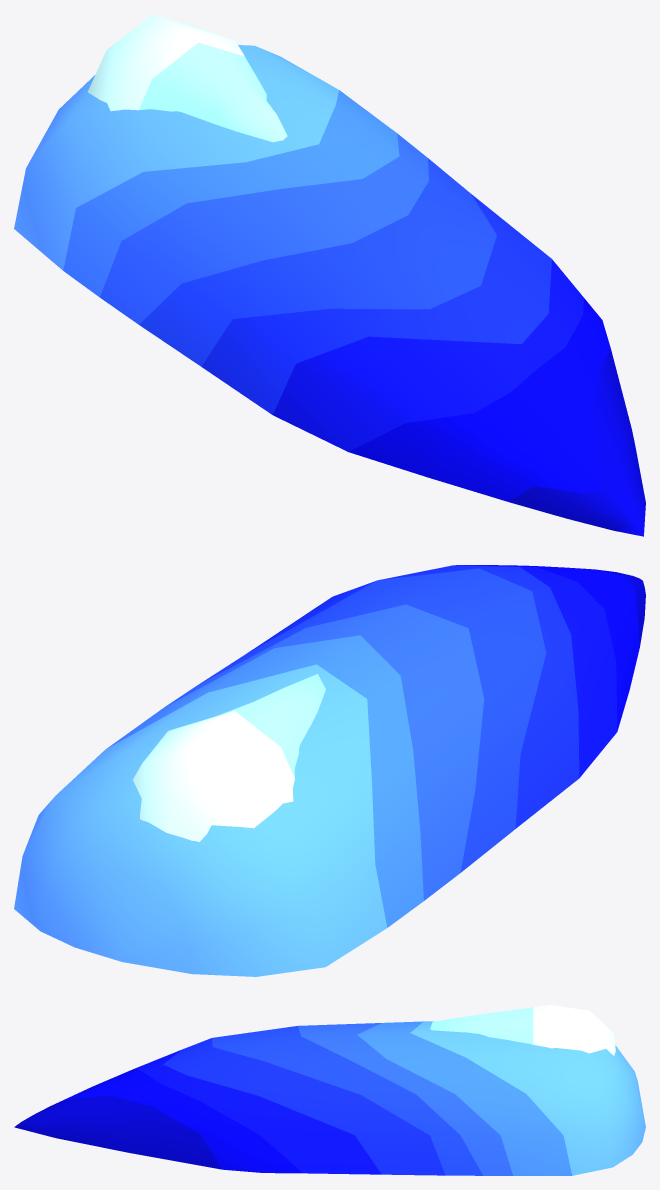
File: shot_sidekick_charge.glb
3 renders of one model, top to bottom at view 1: azimuth 30°, elevation 25°; view 2: azimuth 150°, elevation 25°; view 3: azimuth 270°, elevation 25°, orthographic. The views are drawn at different scales.
Visible parts, largest first — view 1: shot_sidekick_charge_bolt, shot_sidekick_charge_core; view 2: shot_sidekick_charge_bolt, shot_sidekick_charge_core; view 3: shot_sidekick_charge_bolt, shot_sidekick_charge_core.
Boxes of the visible parts, left/top/right/bottom form: shot_sidekick_charge_bolt: left=14, top=45, right=645, bottom=536; shot_sidekick_charge_core: left=88, top=14, right=287, bottom=142; shot_sidekick_charge_bolt: left=14, top=565, right=645, bottom=976; shot_sidekick_charge_core: left=133, top=674, right=325, bottom=841; shot_sidekick_charge_bolt: left=14, top=1021, right=645, bottom=1175; shot_sidekick_charge_core: left=430, top=1005, right=615, bottom=1055.
Bounding box in the file's own units: 4 × 2.24 × 11.
